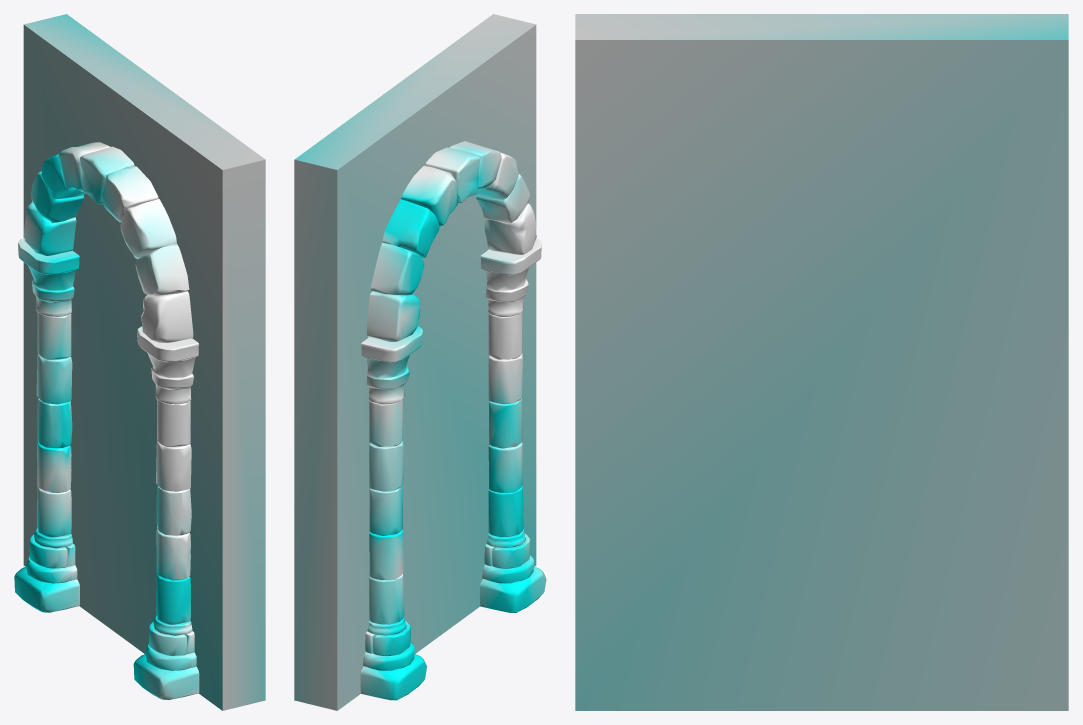
Rendered from SM_ArchWall_Blind_4x6_A.fbx.
The picture shows the model from 3 angles, left to right: view 1: azimuth 30°, elevation 25°; view 2: azimuth 150°, elevation 25°; view 3: azimuth 270°, elevation 25°; orthographic projection. The views are drawn at different scales.
Parts seen in each view (by area): view 1: SM_ArchWall_Blind_4x6_A_LOD0; view 2: SM_ArchWall_Blind_4x6_A_LOD0; view 3: SM_ArchWall_Blind_4x6_A_LOD0.
Part boxes in pixels (x1=…): SM_ArchWall_Blind_4x6_A_LOD0: x1=14, y1=14, x2=265, y2=710; SM_ArchWall_Blind_4x6_A_LOD0: x1=294, y1=14, x2=546, y2=710; SM_ArchWall_Blind_4x6_A_LOD0: x1=575, y1=14, x2=1068, y2=710.
Bounding box in the file's own units: 92.85 × 400 × 601.
